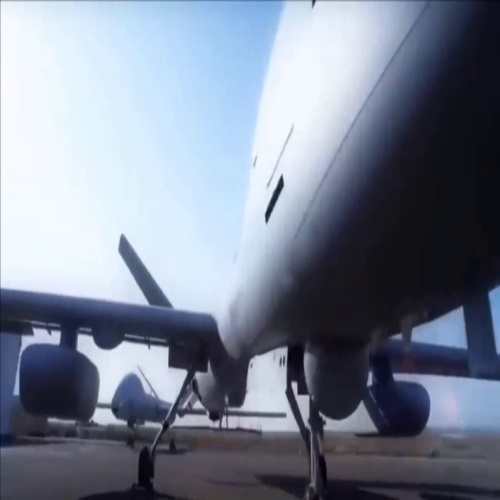uav772: (1, 1, 498, 497)
